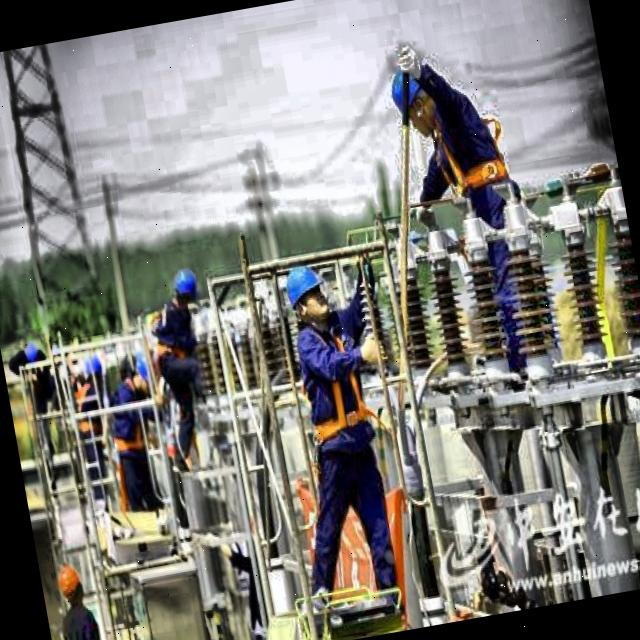helmet: (386, 52, 445, 148), (278, 256, 336, 334), (52, 562, 92, 612), (168, 265, 204, 317), (132, 346, 164, 401)
